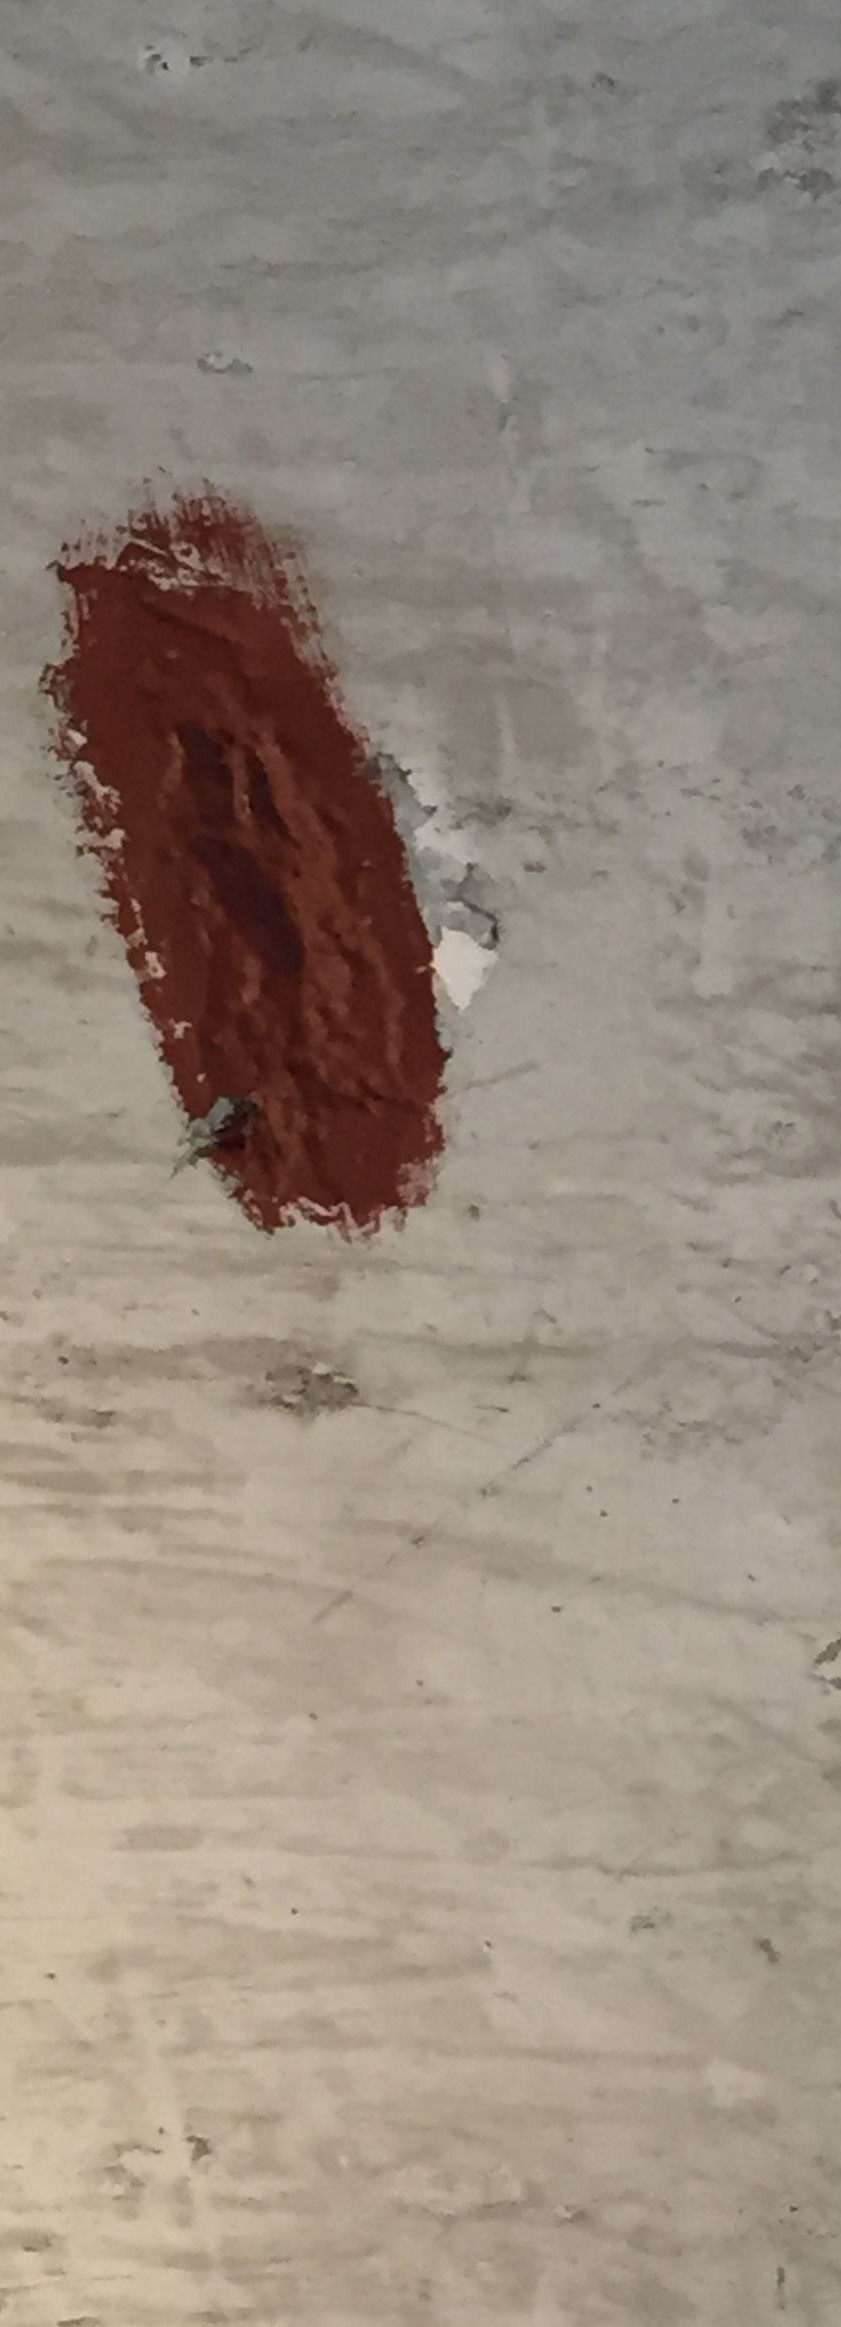Corrosion: (39, 479, 452, 1245)
